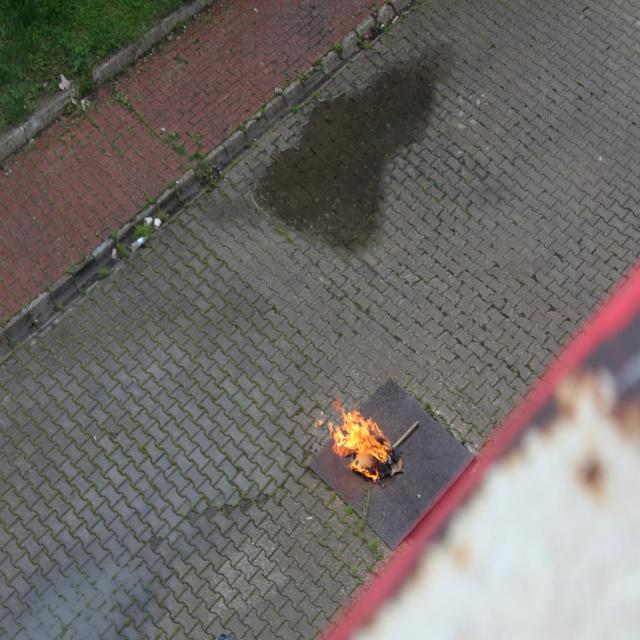fire: (327, 399, 388, 470)
